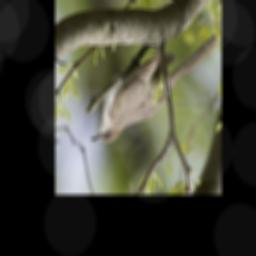Cuckoo: (92, 34, 219, 144)
